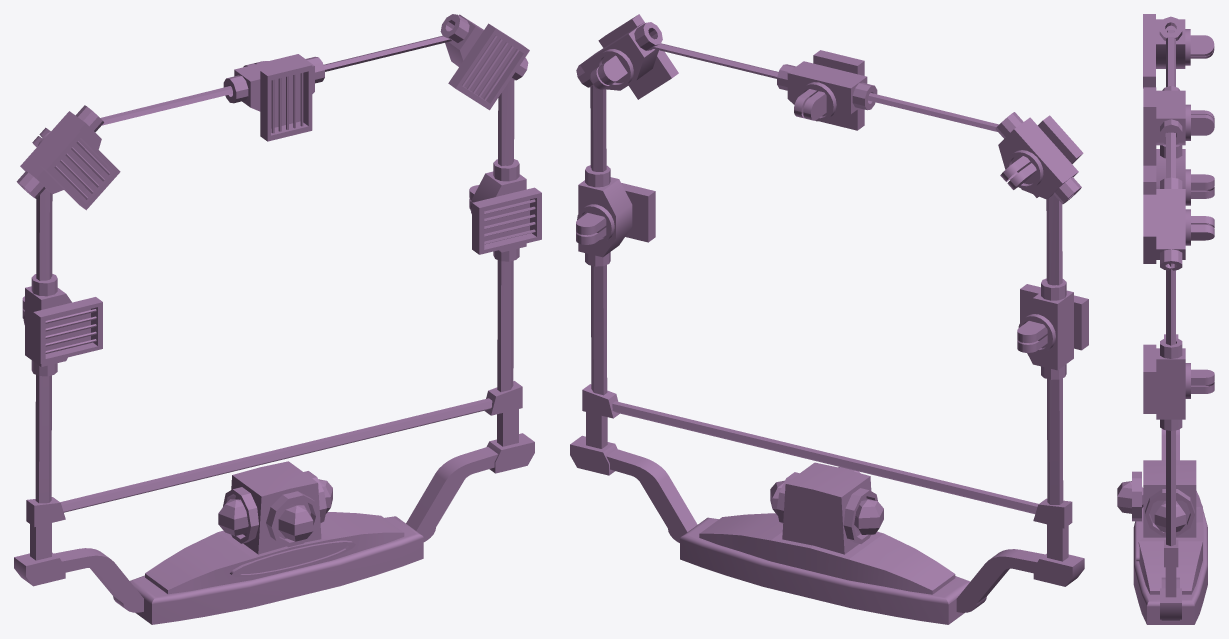
File: Tap Obstacle 2.fbx
3 views of the same model, side by side, from view 1: azimuth 30°, elevation 25°; view 2: azimuth 150°, elevation 25°; view 3: azimuth 270°, elevation 25° (orthographic). The views are drawn at different scales.
Parts seen in each view (by area): view 1: pasted__pCylinder1; view 2: pasted__pCylinder1; view 3: pasted__pCylinder1.
Boxes of the visible parts, left/top/right/bottom form: pasted__pCylinder1: left=14, top=14, right=541, bottom=624; pasted__pCylinder1: left=570, top=14, right=1088, bottom=624; pasted__pCylinder1: left=1117, top=14, right=1214, bottom=624.
Bounding box in the file's own units: 10.11 × 9.91 × 1.87.
